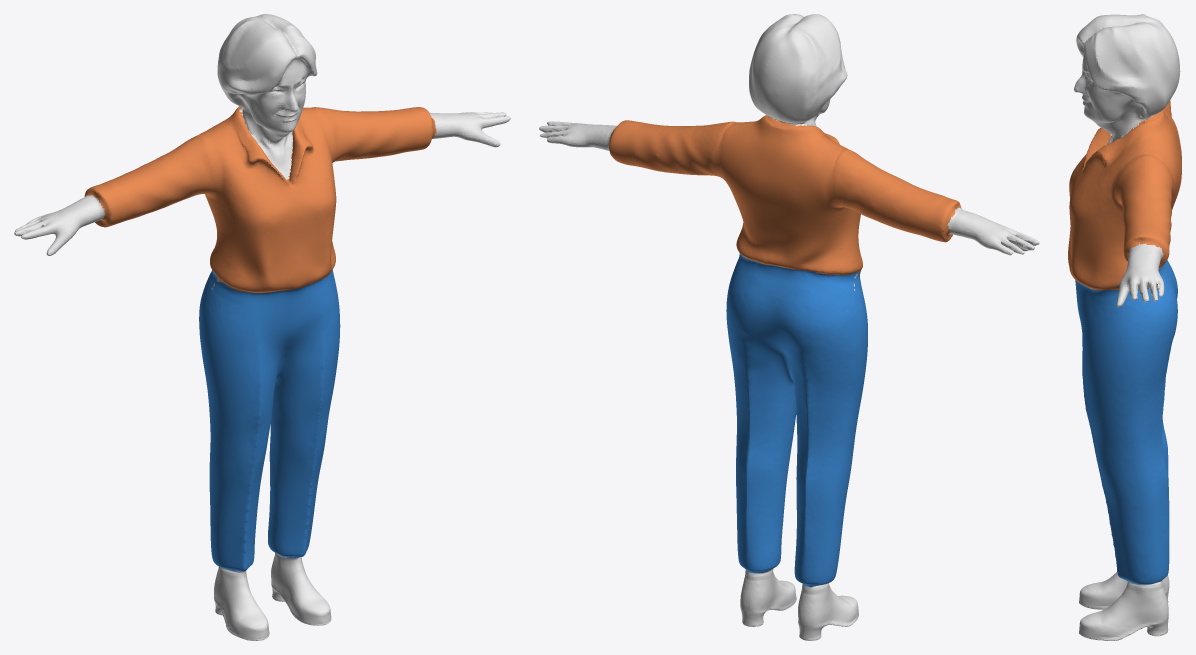
Rendered from LadyV001.fbx.
3 renders of one model, left to right at view 1: azimuth 30°, elevation 25°; view 2: azimuth 150°, elevation 25°; view 3: azimuth 270°, elevation 25°, orthographic.
Parts seen in each view (by area): view 1: Lady; view 2: Lady; view 3: Lady.
Boxes of the visible parts, x1,y1,x2,y2 form: Lady: [14, 14, 510, 640]; Lady: [539, 14, 1039, 640]; Lady: [1068, 14, 1181, 640].
Bounding box in the file's own units: 157 × 181 × 31.18.
